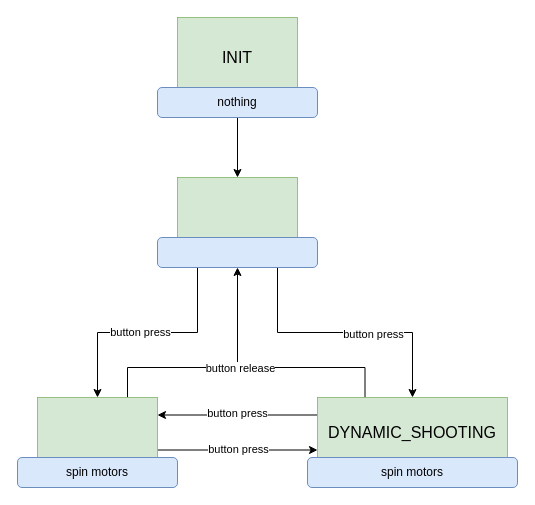
The diagram is 535 pixels wide and 505 high, and some of its shapes have lost their labels. Here are the shapes that lost their labels. From the top down, the centre of each, then its label:
At (237,211): "IDLE".
At (237,252): "stop motors".
At (97,432): "SHOOTING".
